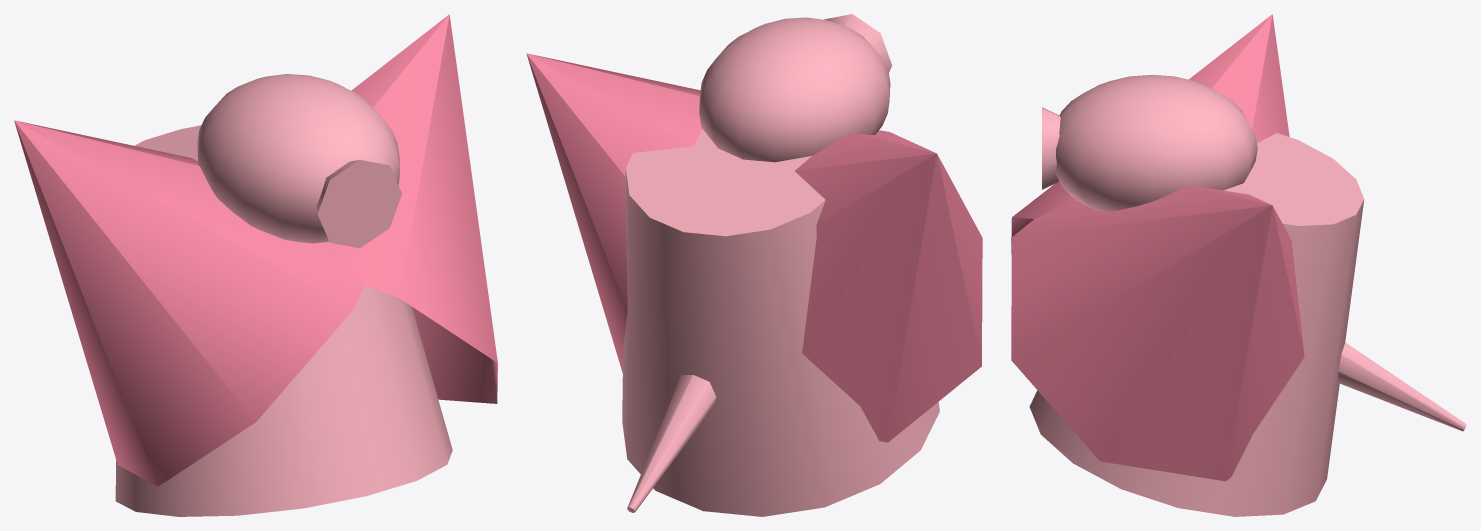
The model's file is drake.glb.
3 renders of one model, left to right at view 1: azimuth 30°, elevation 25°; view 2: azimuth 150°, elevation 25°; view 3: azimuth 270°, elevation 25°, orthographic. The views are drawn at different scales.
Bounding box in the file's own units: 1.03 × 0.9887 × 1.03.
